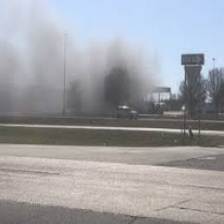smoke: (1, 35, 164, 120)
